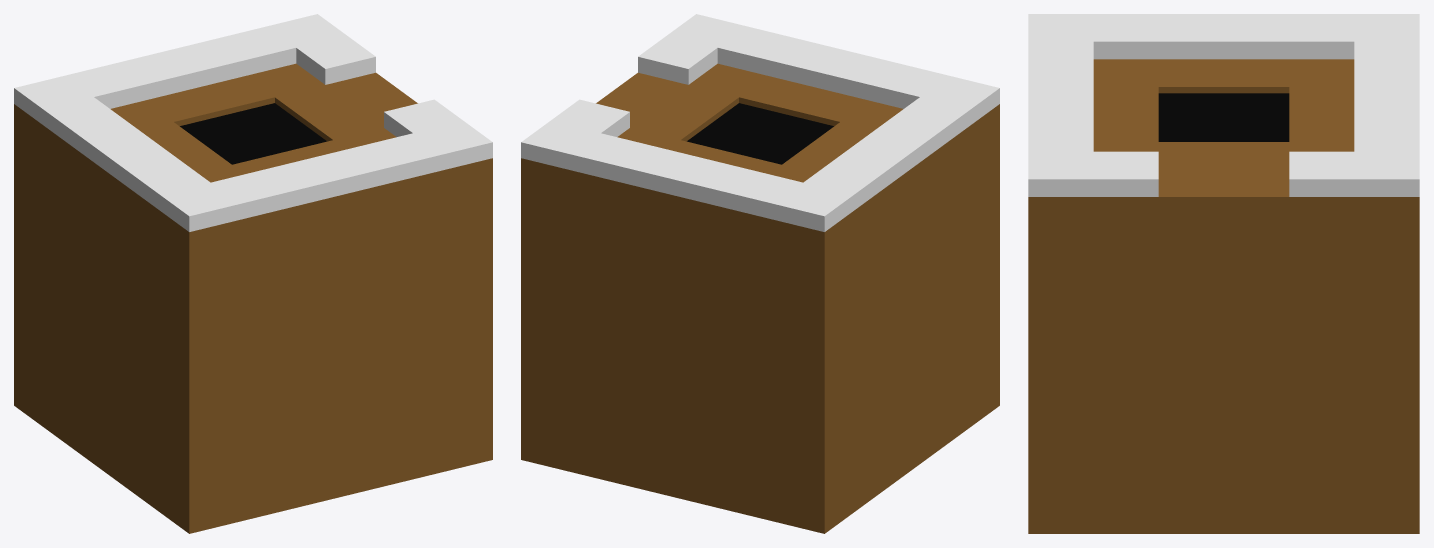
File: WinterEndCube.fbx
3 views of the same model, side by side, from view 1: azimuth 30°, elevation 25°; view 2: azimuth 150°, elevation 25°; view 3: azimuth 270°, elevation 25° (orthographic). The views are drawn at different scales.
Visible parts, largest first — view 1: WinterEndCube; view 2: WinterEndCube; view 3: WinterEndCube.
Boxes of the visible parts, bbox=[...] form: WinterEndCube: bbox=[14, 14, 492, 533]; WinterEndCube: bbox=[521, 14, 999, 533]; WinterEndCube: bbox=[1028, 14, 1419, 533].
Size of the model in its own units: 1 by 1 by 1.
